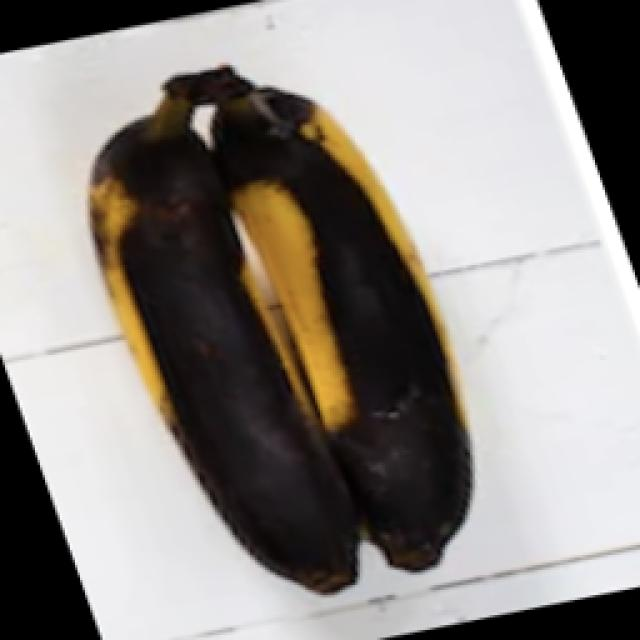Rotten_Banana: (58, 48, 502, 610)
